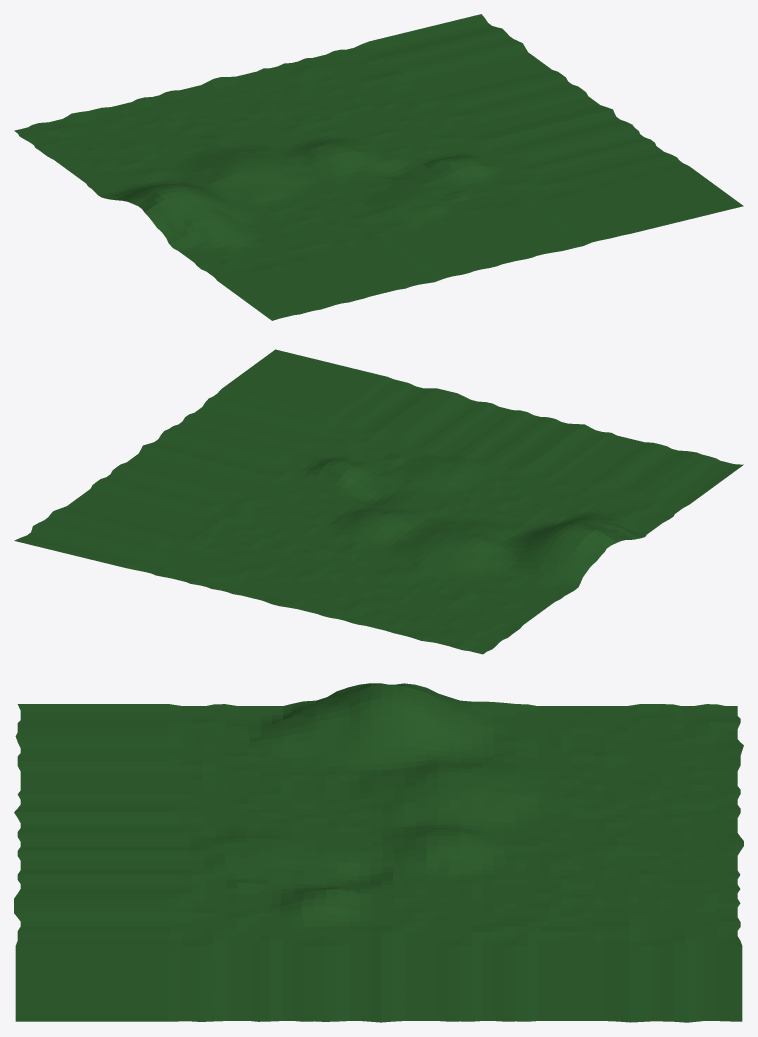
The picture shows the model from 3 angles, top to bottom: view 1: azimuth 30°, elevation 25°; view 2: azimuth 150°, elevation 25°; view 3: azimuth 270°, elevation 25°; orthographic projection. The views are drawn at different scales.
Parts seen in each view (by area): view 1: Plane; view 2: Plane; view 3: Plane.
Boxes of the visible parts, x1,y1,x2,y2 form: Plane: (14, 14, 743, 320); Plane: (14, 349, 743, 654); Plane: (14, 683, 743, 1022).
Bounding box in the file's own units: 5463 × 328 × 5260.
